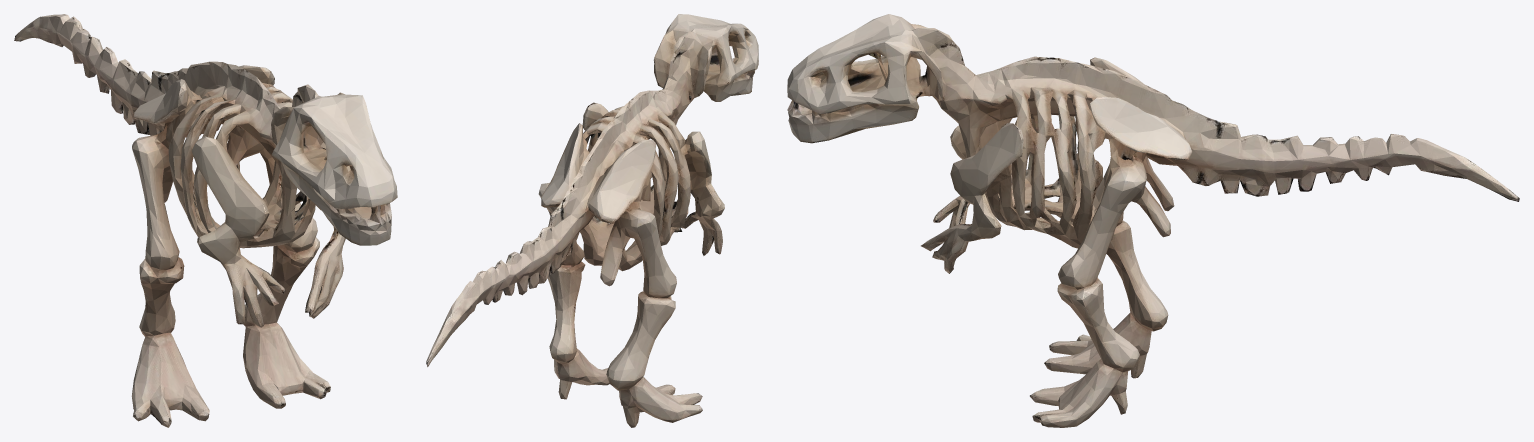
Rendered from giganotosaurus-skjelett.glb.
The picture shows the model from 3 angles, left to right: view 1: azimuth 30°, elevation 25°; view 2: azimuth 150°, elevation 25°; view 3: azimuth 270°, elevation 25°; orthographic projection. The views are drawn at different scales.
Parts seen in each view (by area): view 1: geometry_0; view 2: geometry_0; view 3: geometry_0.
Part boxes in pixels (x1=…): geometry_0: x1=14, y1=14, x2=397, y2=427; geometry_0: x1=426, y1=14, x2=758, y2=427; geometry_0: x1=787, y1=14, x2=1519, y2=427.
Bounding box in the file's own units: 0.2905 × 0.5586 × 0.9998.
Materials: 1 (1 with a texture image).
